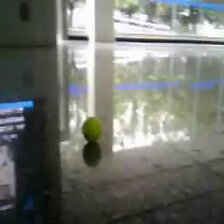tennis: (81, 117, 102, 140)
